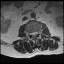CCS_normal: (33, 30, 35, 38)
LFS_normal: (37, 29, 39, 35)
LLS_normal: (35, 30, 37, 36)
RFS_normal: (29, 30, 31, 36)
RLS_normal: (31, 30, 33, 37)
